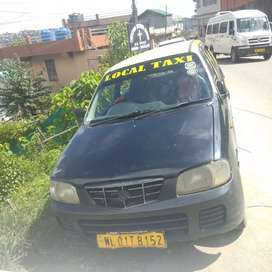NL01T8152: (96, 233, 166, 249)
